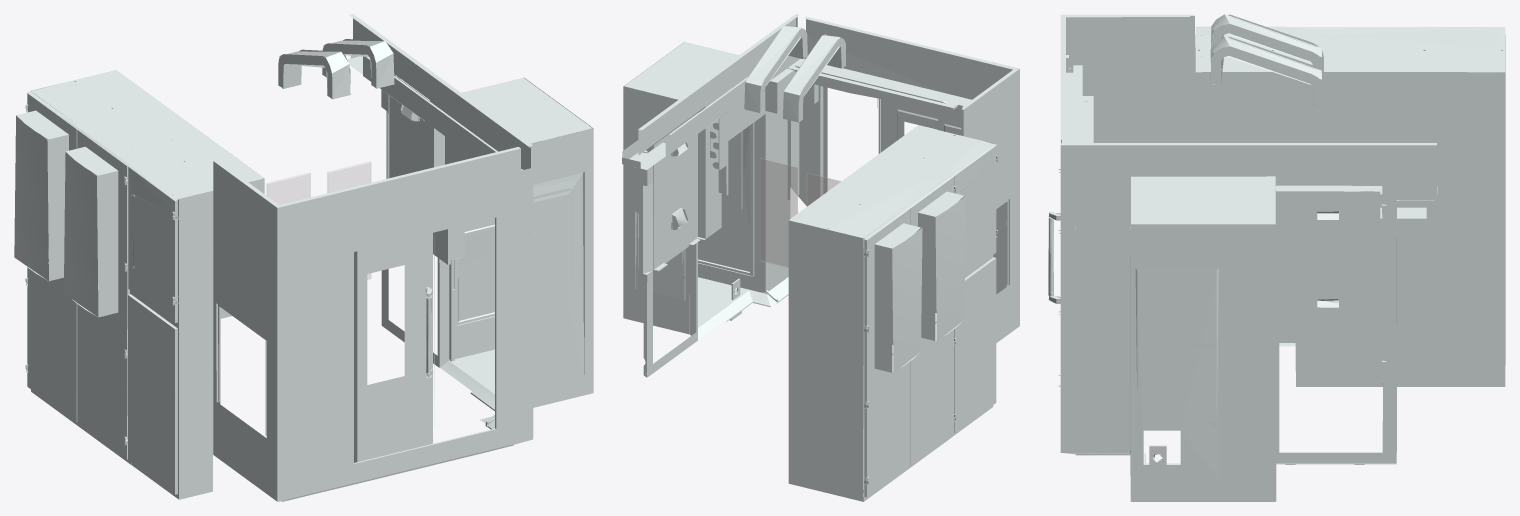
Rendered from FZ12_tiny.glb.
The picture shows the model from 3 angles, left to right: view 1: azimuth 30°, elevation 25°; view 2: azimuth 150°, elevation 25°; view 3: azimuth 270°, elevation 25°; orthographic projection. The views are drawn at different scales.
Visible parts, largest first — view 1: 3080662-ZWP-102_Z=0 MT Verfahrweg Z=420-1 - Teil, Importiert7 - Teil; view 2: 3080662-ZWP-102_Z=0 MT Verfahrweg Z=420-1 - Teil, Importiert7 - Teil; view 3: 3080662-ZWP-102_Z=0 MT Verfahrweg Z=420-1 - Teil.
Part boxes in pixels (bbox=[...]): 3080662-ZWP-102_Z=0 MT Verfahrweg Z=420-1 - Teil: bbox=[14, 14, 593, 501]; Importiert7 - Teil: bbox=[267, 161, 370, 279]; 3080662-ZWP-102_Z=0 MT Verfahrweg Z=420-1 - Teil: bbox=[622, 14, 1019, 501]; Importiert7 - Teil: bbox=[760, 158, 840, 267]; 3080662-ZWP-102_Z=0 MT Verfahrweg Z=420-1 - Teil: bbox=[1048, 14, 1505, 501].
Size of the model in its own units: 94001 by 86267 by 86944.
Materials: 3 (3 with a texture image).
